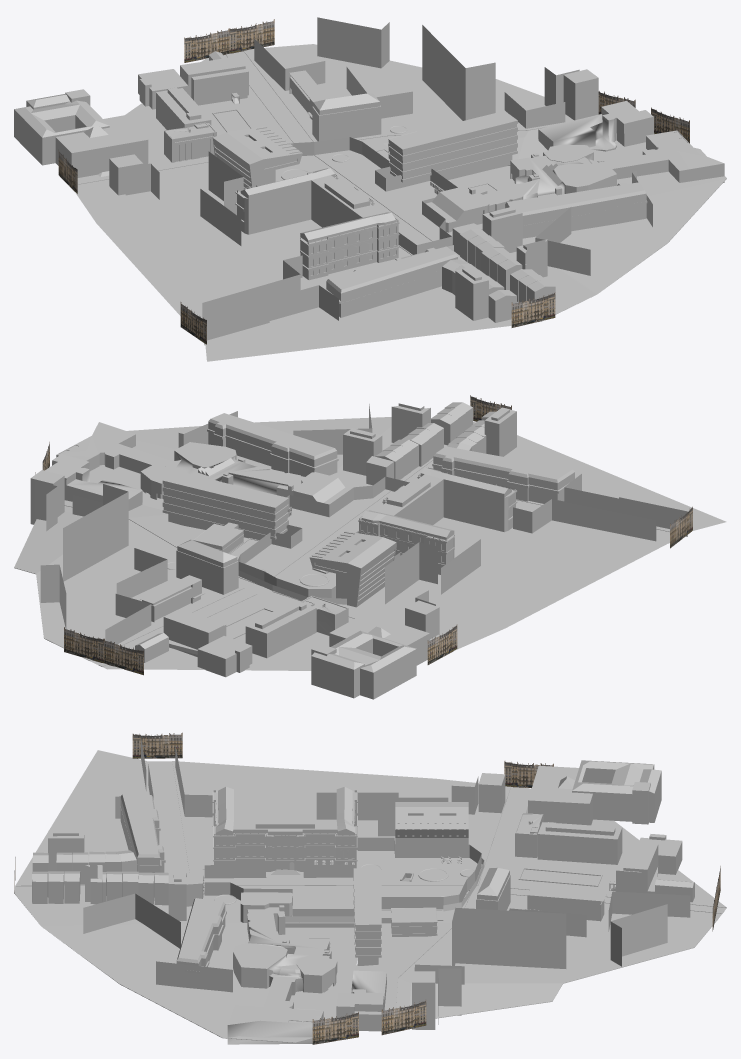
File: BackgroundBuildings.fbx
3 renders of one model, top to bottom at view 1: azimuth 30°, elevation 25°; view 2: azimuth 150°, elevation 25°; view 3: azimuth 270°, elevation 25°, orthographic. The views are drawn at different scales.
Visible parts, largest first — view 1: Ground.Far, Ground.Close, Karman Auditorium, Haubtgebaude, MiningInstitut, Institut für Kunststoffverarbeitung.004, Building2, Plane, ArchitectureInstitut, PhilosophyInstitut, Hörsaalgebäude HKW.001, Sammelbau Maschinenwesen (+14 smaller); view 2: Ground.Far, Ground.Close, Karman Auditorium, Haubtgebaude, MiningInstitut, Building2, Institut für Kunststoffverarbeitung.004, PhilosophyInstitut, ArchitectureInstitut, Institut für Hochspannungstechnik | IFHT, CentralBib.001, Super C (+16 smaller); view 3: Ground.Far, Ground.Close, Karman Auditorium, Haubtgebaude, MiningInstitut, Sammelbau Maschinenwesen, PlayerBoundary, Plane, Building2, Lehrbuchsammlung.001, CentralBib.001, Hörsaalgebäude HKW.001 (+16 smaller).
Boxes of the visible parts, x1,y1,x2,y2 form: Ground.Far: [69, 44, 726, 361]; Ground.Close: [75, 143, 596, 320]; Karman Auditorium: [426, 101, 724, 232]; Haubtgebaude: [235, 168, 399, 280]; MiningInstitut: [14, 89, 148, 177]; Institut für Kunststoffverarbeitung.004: [204, 39, 565, 345]; Building2: [388, 111, 517, 182]; Plane: [58, 19, 689, 344]; ArchitectureInstitut: [324, 246, 457, 317]; PhilosophyInstitut: [505, 182, 647, 238]; Hörsaalgebäude HKW.001: [208, 17, 389, 215]; Sammelbau Maschinenwesen: [422, 25, 495, 120]; Ground.Far: [14, 417, 726, 670]; Ground.Close: [238, 422, 668, 650]; Karman Auditorium: [45, 422, 350, 510]; Haubtgebaude: [358, 467, 517, 574]; MiningInstitut: [311, 613, 429, 699]; Building2: [162, 471, 288, 553]; Institut für Kunststoffverarbeitung.004: [72, 474, 687, 644]; PhilosophyInstitut: [207, 413, 338, 476]; ArchitectureInstitut: [432, 446, 574, 503]; Institut für Hochspannungstechnik | IFHT: [441, 499, 656, 594]; CentralBib.001: [135, 609, 252, 677]; Super C: [309, 531, 396, 607]; Ground.Far: [14, 750, 726, 1042]; Ground.Close: [14, 761, 510, 926]; Karman Auditorium: [227, 892, 386, 1044]; Haubtgebaude: [212, 786, 357, 867]; MiningInstitut: [528, 760, 661, 825]; Sammelbau Maschinenwesen: [452, 907, 566, 968]; PlayerBoundary: [204, 837, 481, 916]; Plane: [14, 732, 720, 1044]; Building2: [353, 868, 437, 965]; Lehrbuchsammlung.001: [412, 773, 505, 1029]; CentralBib.001: [609, 834, 694, 902]; Hörsaalgebäude HKW.001: [378, 797, 667, 966].
Size of what is drawn, in the model's own units: 46043 by 5053 by 48115.
